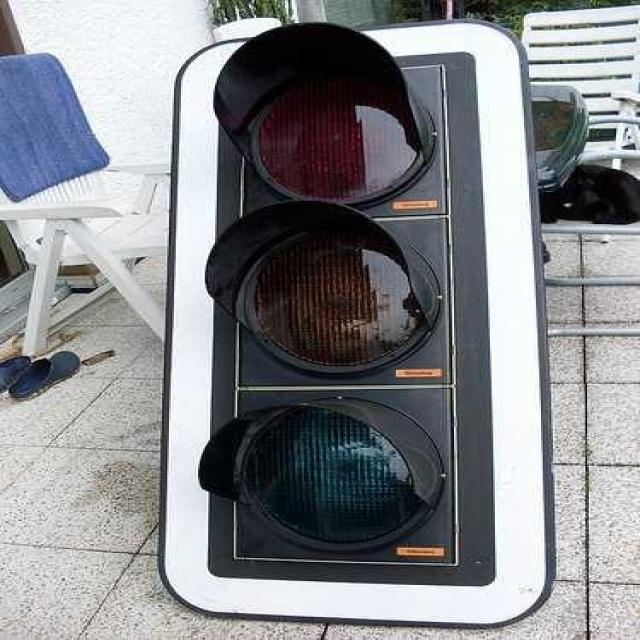Traffic Light -Off-: (159, 12, 561, 632)
